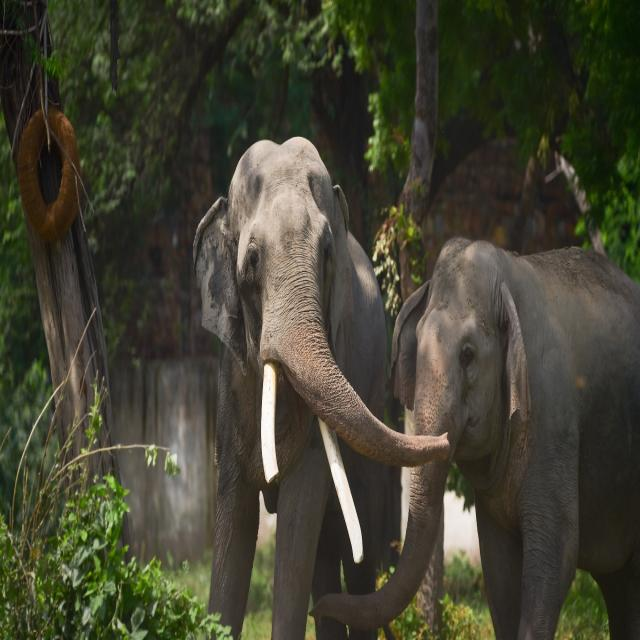Elephant: (190, 127, 408, 631), (389, 216, 640, 638)
